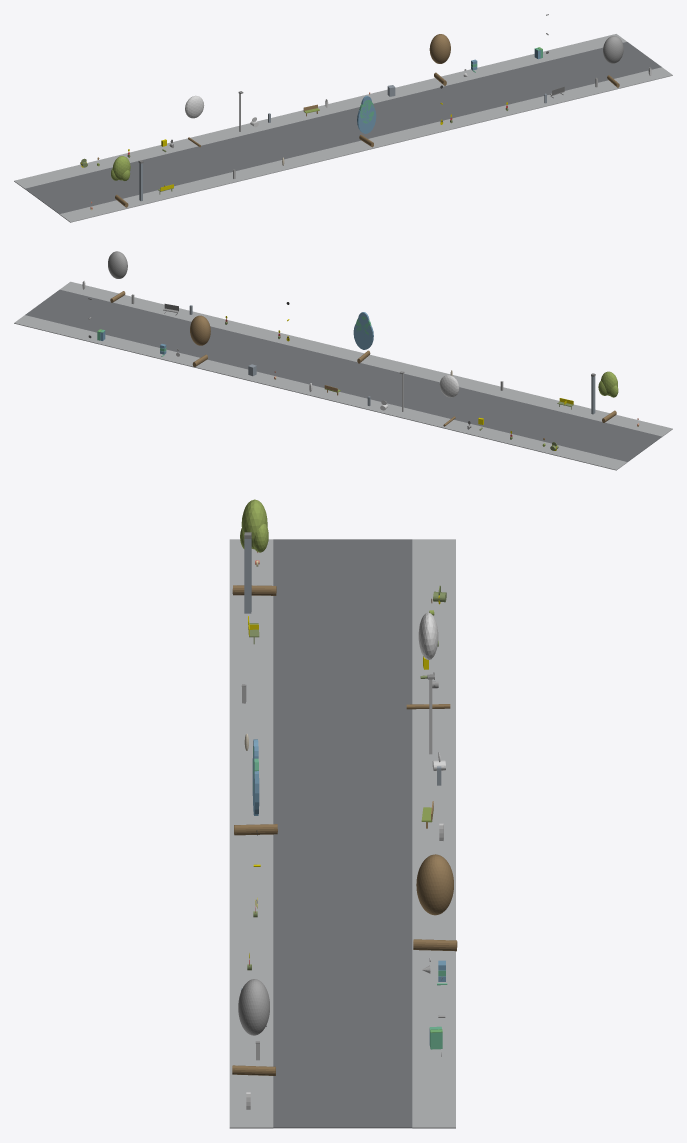
3 renders of one model, top to bottom at view 1: azimuth 30°, elevation 25°; view 2: azimuth 150°, elevation 25°; view 3: azimuth 270°, elevation 25°, orthographic. The views are drawn at different scales.
Parts seen in each view (by area): view 1: road_slab, sidewalk_left, sidewalk_right, inst_0014, inst_0015, inst_0016, inst_0012, inst_0013; view 2: road_slab, sidewalk_right, sidewalk_left, inst_0014, inst_0015, inst_0016, inst_0012, inst_0013; view 3: road_slab, sidewalk_left, sidewalk_right, inst_0015, inst_0016, inst_0012, inst_0014, inst_0013.
Part boxes in pixels (x1,y1,x2,y2): road_slab: (25, 42, 661, 214); sidewalk_left: (59, 67, 672, 222); sidewalk_right: (14, 34, 626, 188); inst_0014: (357, 95, 376, 147); inst_0015: (429, 34, 450, 85); inst_0016: (603, 36, 623, 87); inst_0012: (111, 156, 130, 207); inst_0013: (185, 95, 204, 147); road_slab: (25, 289, 661, 462); sidewalk_right: (14, 315, 627, 470); sidewalk_left: (60, 281, 672, 436); inst_0014: (353, 312, 373, 363); inst_0015: (190, 315, 210, 367); inst_0016: (108, 251, 127, 302); inst_0012: (598, 371, 618, 422); inst_0013: (439, 375, 459, 426); road_slab: (273, 539, 412, 1128); sidewalk_left: (229, 539, 273, 1128); sidewalk_right: (412, 539, 455, 1128); inst_0015: (413, 854, 457, 951); inst_0016: (232, 979, 275, 1075); inst_0012: (232, 499, 276, 595); inst_0014: (234, 739, 277, 835); inst_0013: (406, 612, 450, 709).
Bounding box in the file's own units: 80 × 6.08 × 13.08.
